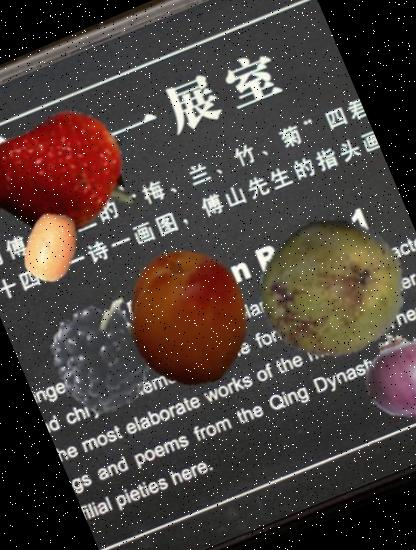Apricot: (98, 227, 278, 408)
Kumquats: (5, 201, 98, 294)
Mulberry: (10, 276, 172, 437)
Onion: (336, 302, 416, 451)
Pear: (236, 193, 416, 384)
Strawberry: (0, 77, 162, 274)
